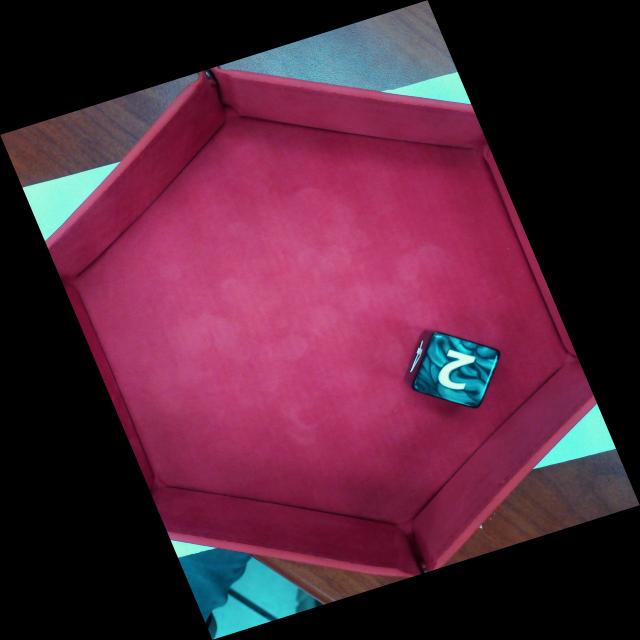dice: (415, 331, 499, 409)
